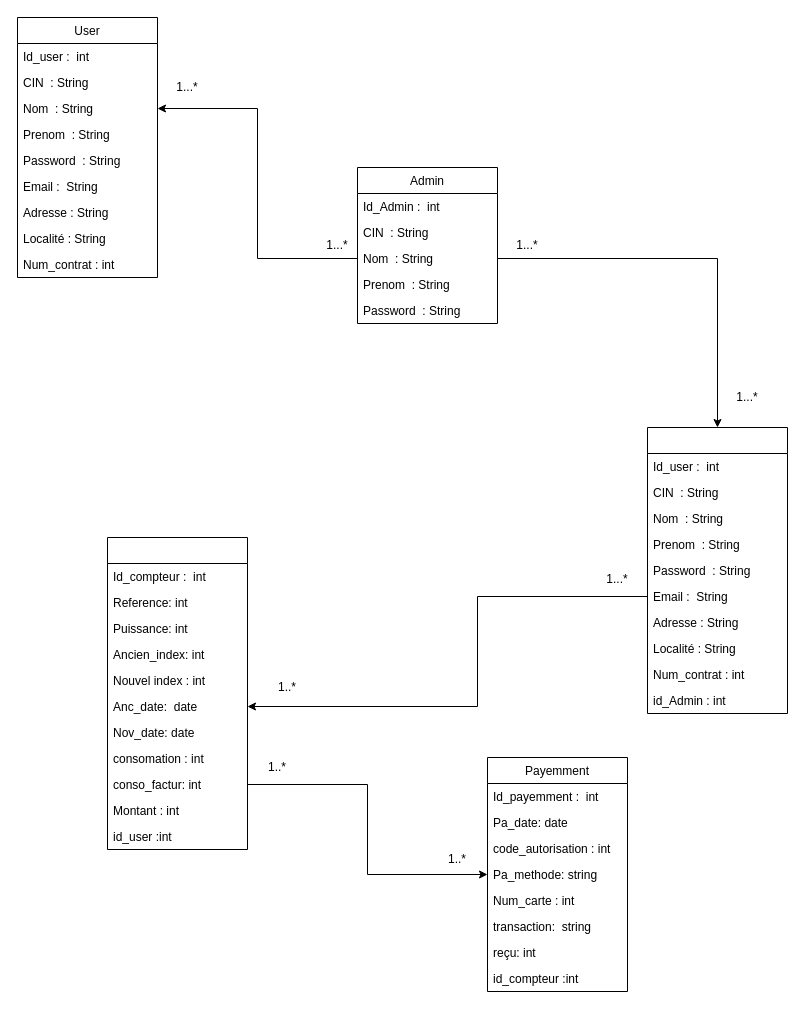
Image size: 805x1012. Some labels were removed from this diagram. Here are the shapes that lost their labels. From the top down, the box of each, then its label:
(646, 426, 788, 714): User_valider
(106, 536, 248, 850): Détail consomation
